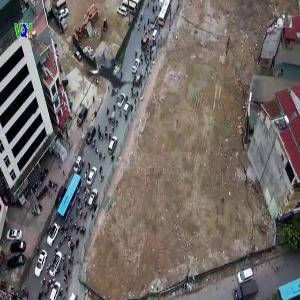drone: (64, 24, 165, 125)
